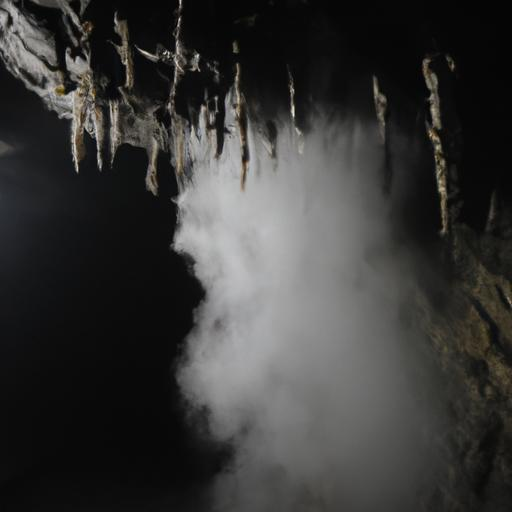smoke: (132, 54, 458, 512)
